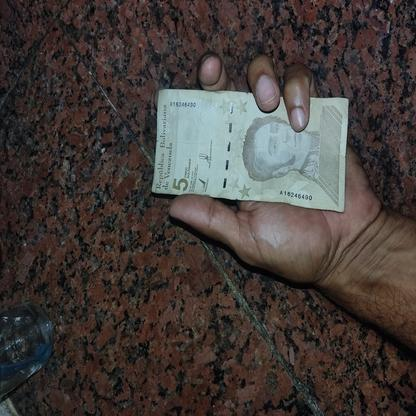five-front-vef: (150, 88, 349, 213)
